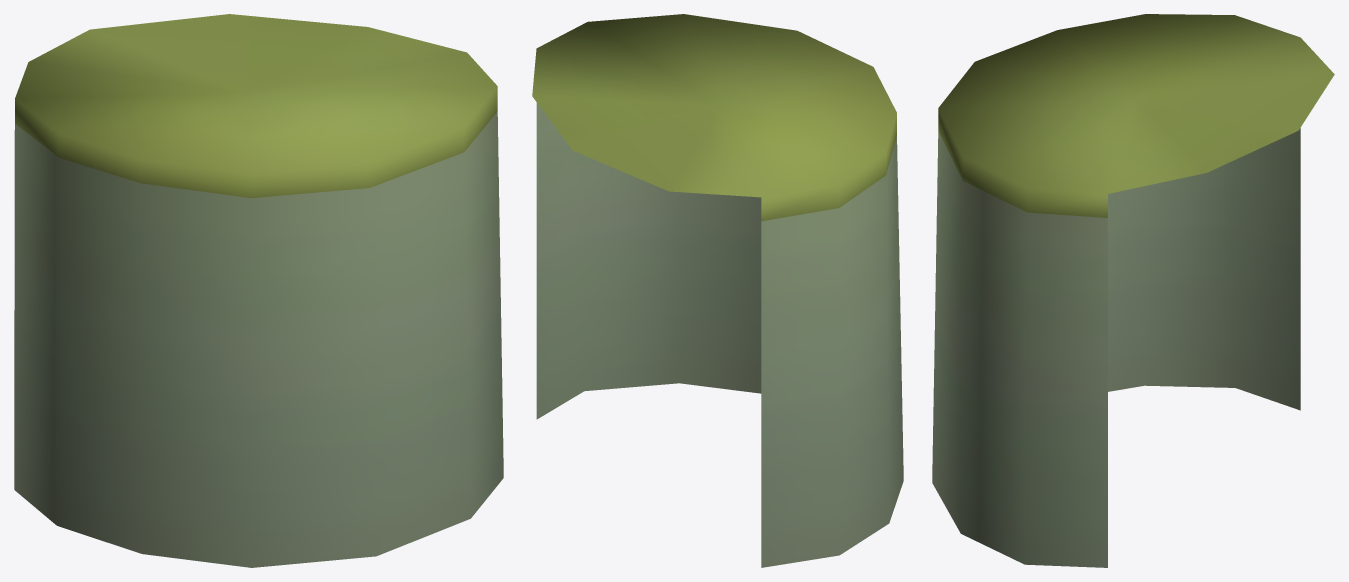
Rendered from Hill.glb.
3 views of the same model, side by side, from view 1: azimuth 30°, elevation 25°; view 2: azimuth 150°, elevation 25°; view 3: azimuth 270°, elevation 25° (orthographic). The views are drawn at different scales.
Parts seen in each view (by area): view 1: ct_town_cliff; view 2: ct_town_cliff; view 3: ct_town_cliff.
Part boxes in pixels (x1,y1,x2,y2): ct_town_cliff: [14, 14, 503, 567]; ct_town_cliff: [532, 14, 903, 567]; ct_town_cliff: [932, 14, 1334, 567].
Size of the model in its own units: 14.68 by 14.06 by 13.71.
Materials: 1 (1 with a texture image).
